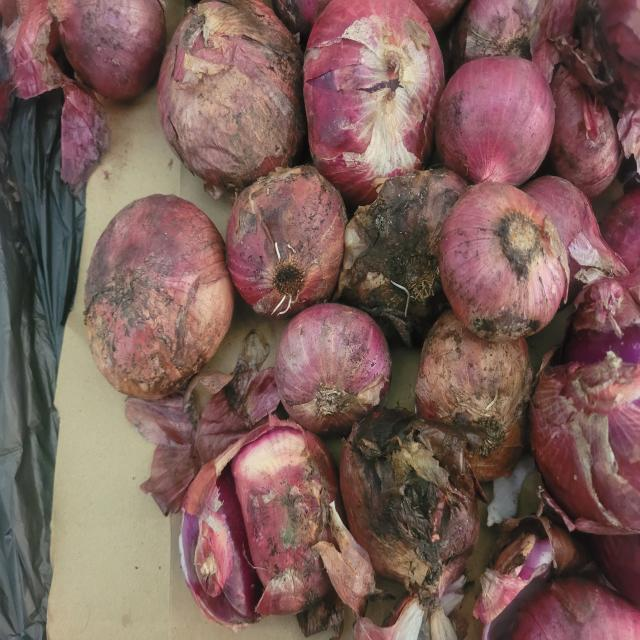mechanical_damage: (164, 424, 336, 626)
